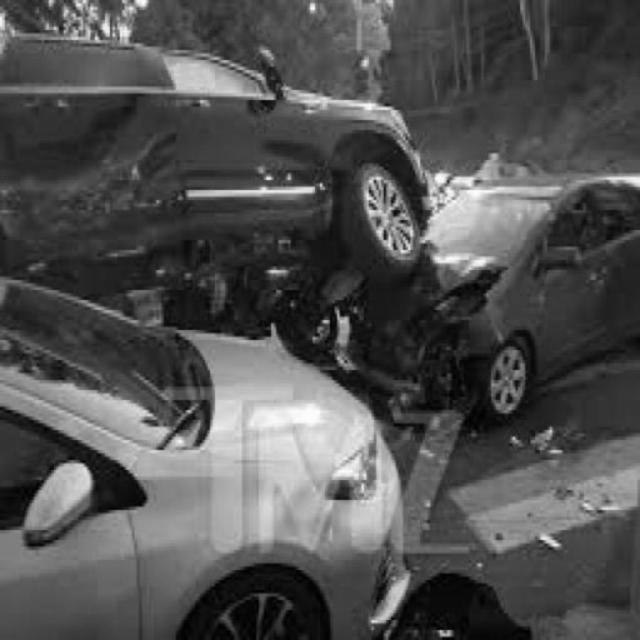accident: (23, 80, 624, 392)
vehicle: (1, 333, 409, 637)
